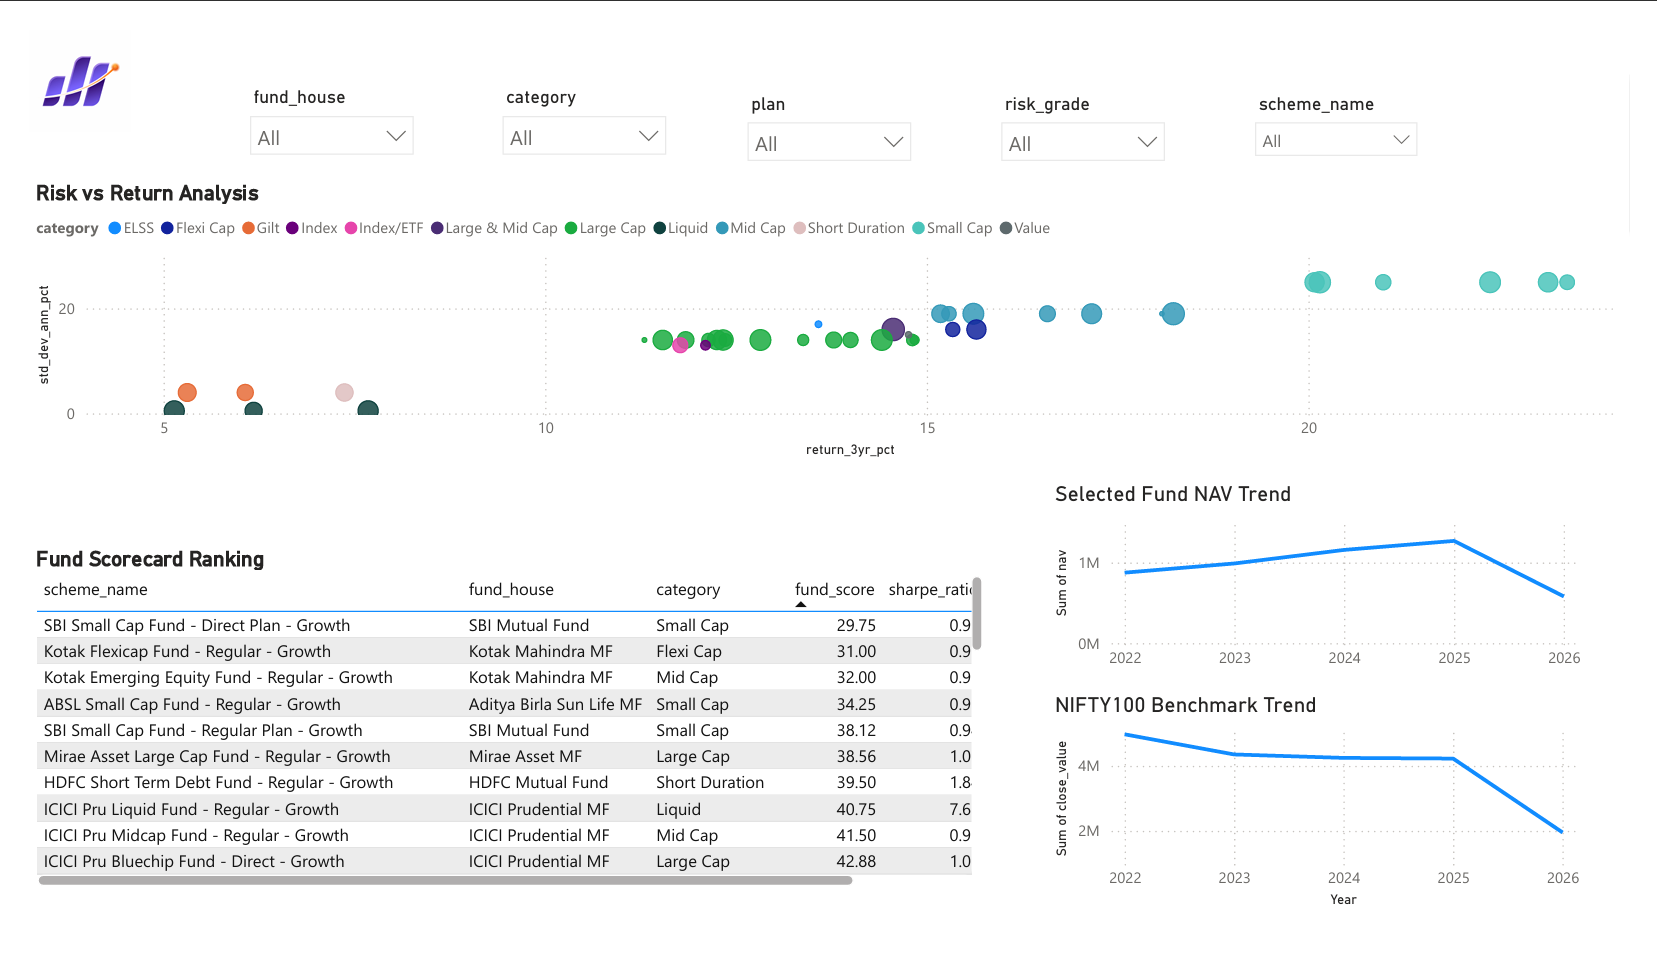

Layout of this report page (visuals, bound fields, positions):
{"tool":"powerbi","page":{"name":"Fund Performance","canvas":[1280,720],"ordinal":1},"visuals":[{"type":"scatterChart","title":"Risk vs Return Analysis","fields":{"X":["scheme_performance_cleaned.return_3yr_pct"],"Y":["scheme_performance_cleaned.std_dev_ann_pct"],"Size":["Sum(scheme_performance_cleaned.aum_crore)"],"Series":["scheme_performance_cleaned.category"]},"box":[0,119.4,1278.9,226.4],"z":0},{"type":"tableEx","title":"Fund Scorecard Ranking","fields":{"Values":["scheme_performance_cleaned.scheme_name","scheme_performance_cleaned.fund_house","scheme_performance_cleaned.category","fund_scorecard.fund_score","scheme_performance_cleaned.sharpe_ratio","scheme_performance_cleaned.return_3yr_pct"]},"box":[0,411.7,767.1,277.2],"z":1000},{"type":"slicer","fields":{"Values":["scheme_performance_cleaned.fund_house"]},"box":[166,39.8,150.9,79.6],"z":2000},{"type":"slicer","fields":{"Values":["scheme_performance_cleaned.category"]},"box":[367.8,39.8,150.9,79.6],"z":3000},{"type":"slicer","fields":{"Values":["scheme_performance_cleaned.plan"]},"box":[564,45.3,150.9,79.6],"z":4000},{"type":"slicer","fields":{"Values":["scheme_performance_cleaned.risk_grade"]},"box":[767.1,45.3,150.9,79.6],"z":5000},{"type":"slicer","fields":{"Values":["fund_scorecard.scheme_name"]},"box":[970.2,45.3,150,80],"z":6000},{"type":"lineChart","title":"Selected Fund NAV Trend","fields":{"Category":["nav_history_cleaned.date.Variation.Date Hierarchy.Year","nav_history_cleaned.date.Variation.Date Hierarchy.Quarter","nav_history_cleaned.date.Variation.Date Hierarchy.Month","nav_history_cleaned.date.Variation.Date Hierarchy.Day"],"Y":["Sum(nav_history_cleaned.nav)"]},"box":[815.1,359.5,429.5,160.5],"z":7000},{"type":"lineChart","title":"NIFTY100 Benchmark Trend","fields":{"Category":["benchmark_indices_cleaned.date.Variation.Date Hierarchy.Year","benchmark_indices_cleaned.date.Variation.Date Hierarchy.Quarter","benchmark_indices_cleaned.date.Variation.Date Hierarchy.Month","benchmark_indices_cleaned.date.Variation.Date Hierarchy.Day"],"Y":["Sum(benchmark_indices_cleaned.close_value)"]},"box":[815.1,529.1,429.1,176.7],"z":8000},{"type":"image","box":[0,0,81,81],"z":9000}]}

Visuals, with their boxes on the page's 1280x720 design canvas (x1, y1, x2, y2). These are canvas units, not pixel positions in the 1657x961 screenshot, which may show the page scaled, cropped or inside an application window:
"Risk vs Return Analysis" scatterChart: select_region(0, 119, 1279, 346)
"Fund Scorecard Ranking" tableEx: select_region(0, 412, 767, 689)
slicer - scheme_performance_cleaned.fund_house: select_region(166, 40, 317, 119)
slicer - scheme_performance_cleaned.category: select_region(368, 40, 519, 119)
slicer - scheme_performance_cleaned.plan: select_region(564, 45, 715, 125)
slicer - scheme_performance_cleaned.risk_grade: select_region(767, 45, 918, 125)
slicer - fund_scorecard.scheme_name: select_region(970, 45, 1120, 125)
"Selected Fund NAV Trend" lineChart: select_region(815, 360, 1245, 520)
"NIFTY100 Benchmark Trend" lineChart: select_region(815, 529, 1244, 706)
image: select_region(0, 0, 81, 81)
